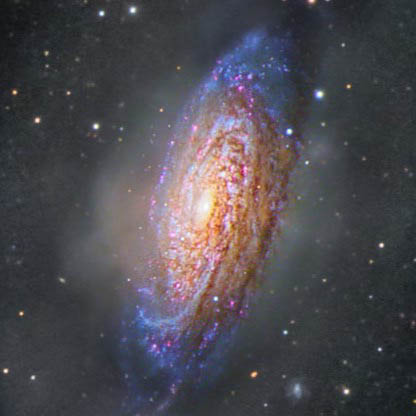NGC 3521: (76, 7, 357, 405)
